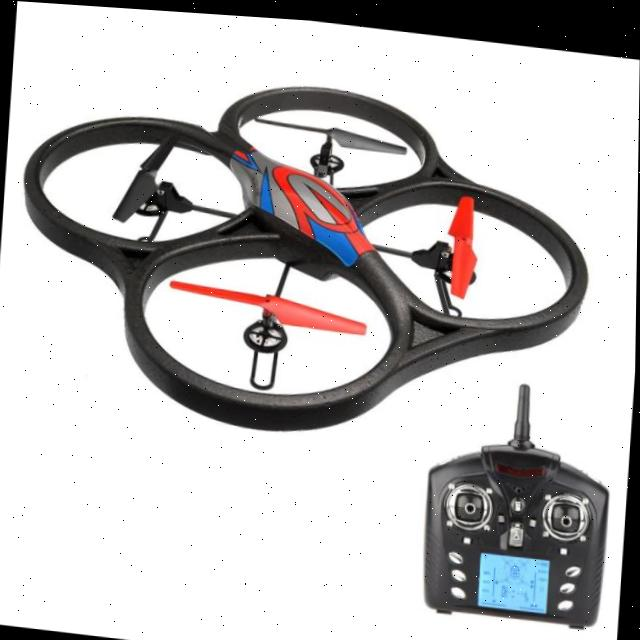drones: (0, 39, 631, 440)
